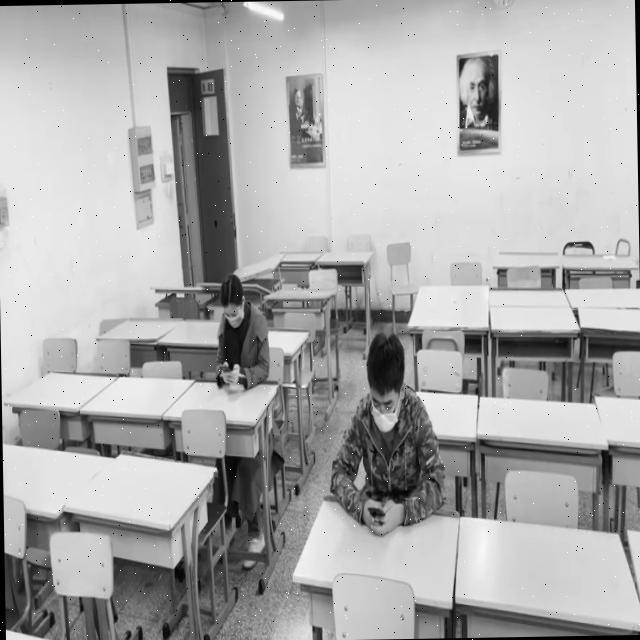phone: (327, 337, 442, 521), (215, 282, 270, 387)
